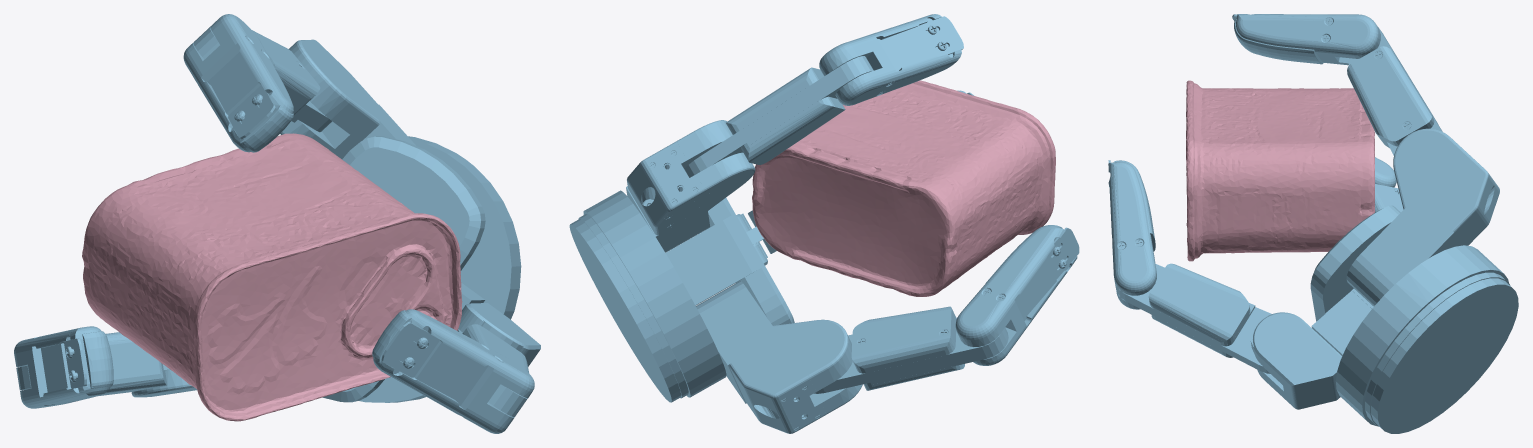
3 renders of one model, left to right at view 1: azimuth 30°, elevation 25°; view 2: azimuth 150°, elevation 25°; view 3: azimuth 270°, elevation 25°, orthographic. The views are drawn at different scales.
Visible parts, largest first — view 1: potted_meat_can.stl, world; view 2: world, potted_meat_can.stl; view 3: world, potted_meat_can.stl.
Part boxes in pixels (x1,y1,x2,y2): potted_meat_can.stl: (82,133,462,421); world: (14,14,540,433); world: (569,14,1079,433); potted_meat_can.stl: (752,80,1055,296); world: (1108,14,1518,433); potted_meat_can.stl: (1186,80,1374,261).
Bounding box in the file's own units: 0.2027 × 0.1663 × 0.1811.
